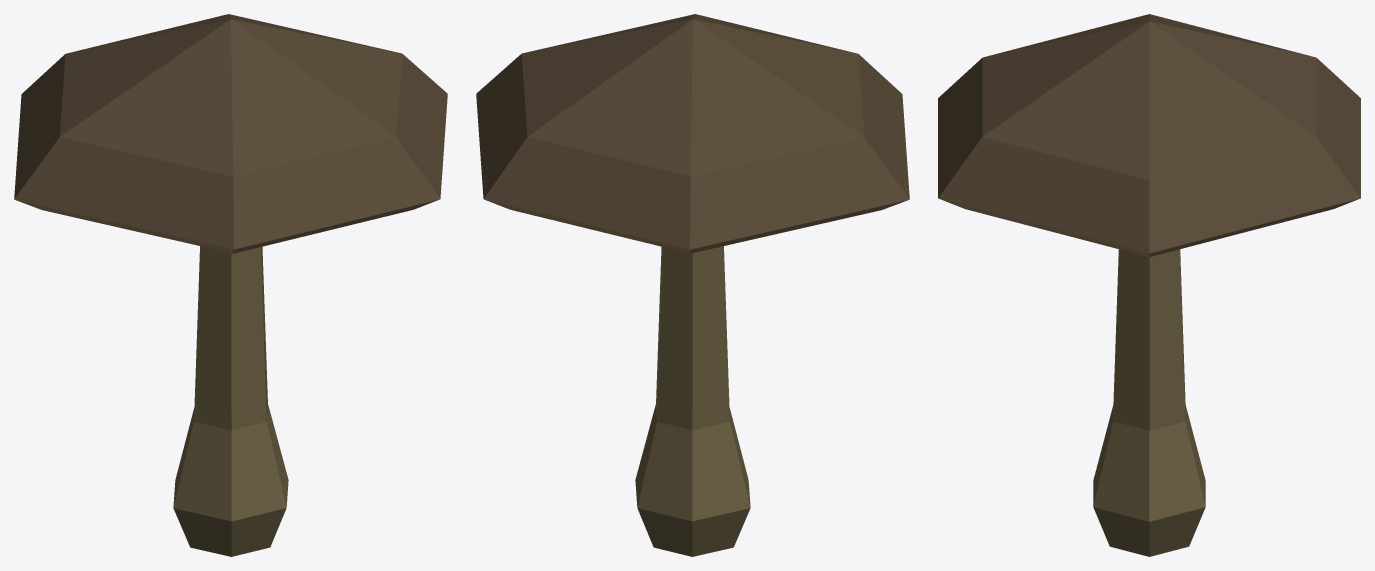
Rendered from Mushroom-A02.fbx.
The picture shows the model from 3 angles, left to right: view 1: azimuth 30°, elevation 25°; view 2: azimuth 150°, elevation 25°; view 3: azimuth 270°, elevation 25°; orthographic projection.
Visible parts, largest first — view 1: Mushroom-A02; view 2: Mushroom-A02; view 3: Mushroom-A02.
Boxes of the visible parts, box(x1,y1,x2,y2) form: Mushroom-A02: box(14, 14, 447, 556); Mushroom-A02: box(476, 14, 909, 556); Mushroom-A02: box(938, 14, 1360, 556).
Bounding box in the file's own units: 55.61 × 63.53 × 47.19.
